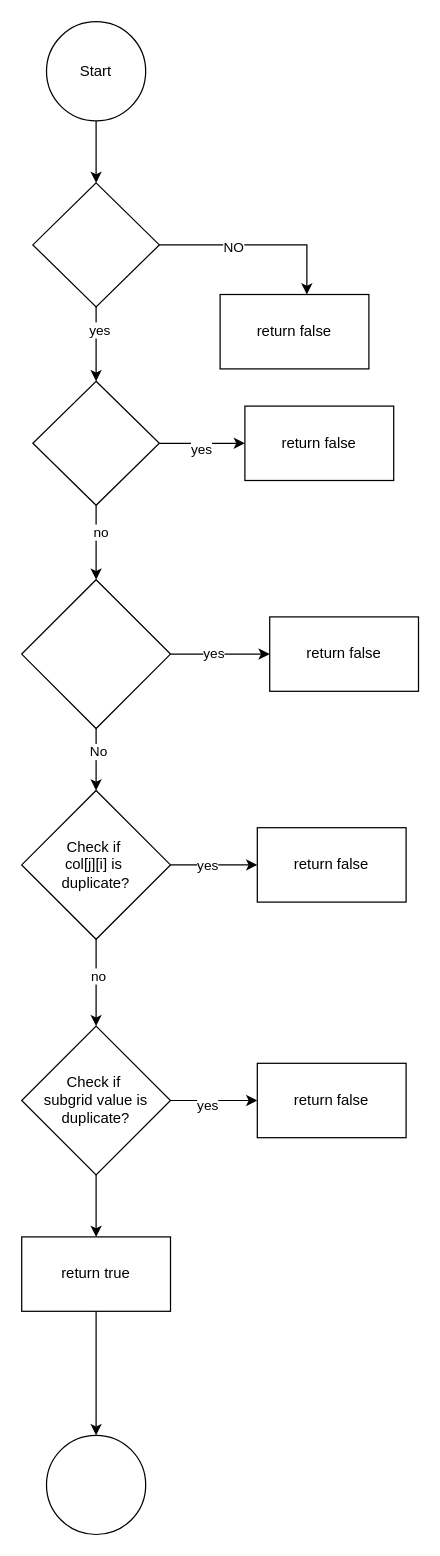
Some shapes in this 440 by 1556 pixel diagram are drawn without their labels. Here are the shapes that lost their labels. From the top down, the centre of each, then its label:
the point at 95,244: Is board size 9x9 (rows/cols)?
the point at 95,442: Check for invalid characters
the point at 95,653: Check if row[i][j] is duplicate?
the point at 95,1484: end
